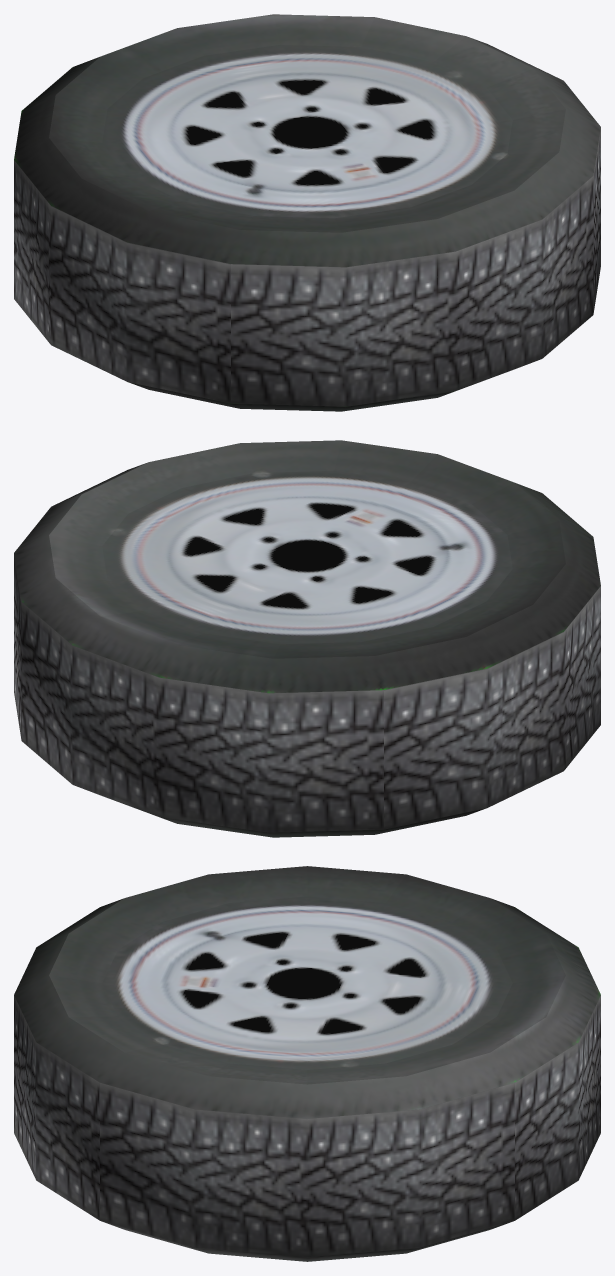
Rendered from Wheel_mid.FBX.
The picture shows the model from 3 angles, top to bottom: view 1: azimuth 30°, elevation 25°; view 2: azimuth 150°, elevation 25°; view 3: azimuth 270°, elevation 25°; orthographic projection.
Visible parts, largest first — view 1: Wheel; view 2: Wheel; view 3: Wheel.
Part boxes in pixels (x1,y1,x2,y2): Wheel: (14,14,600,411); Wheel: (14,440,600,837); Wheel: (14,866,600,1261).
Size of the model in its own units: 23.62 by 7.87 by 23.62.
